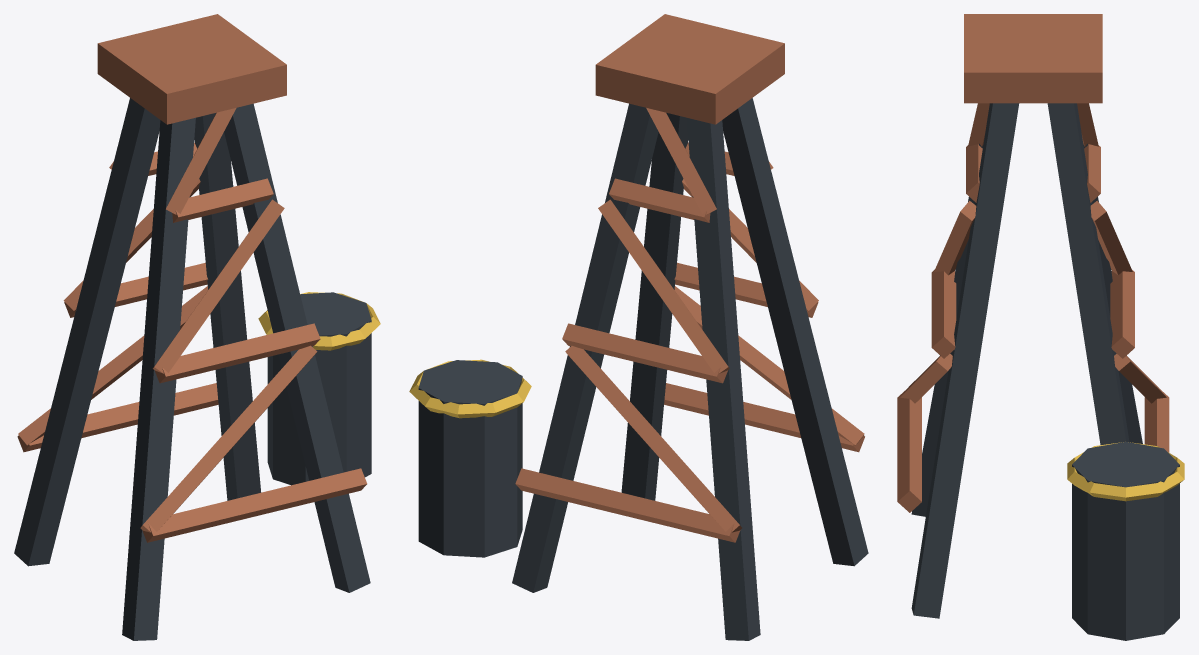
Rendered from res_oil.glb.
3 renders of one model, left to right at view 1: azimuth 30°, elevation 25°; view 2: azimuth 150°, elevation 25°; view 3: azimuth 270°, elevation 25°, orthographic.
Visible parts, largest first — view 1: res_oil; view 2: res_oil; view 3: res_oil.
Boxes of the visible parts, x1,y1,x2,y2 form: res_oil: [14, 14, 380, 640]; res_oil: [409, 14, 868, 640]; res_oil: [897, 14, 1184, 640].
Size of the model in its own units: 0.2588 by 0.3737 by 0.1863.
